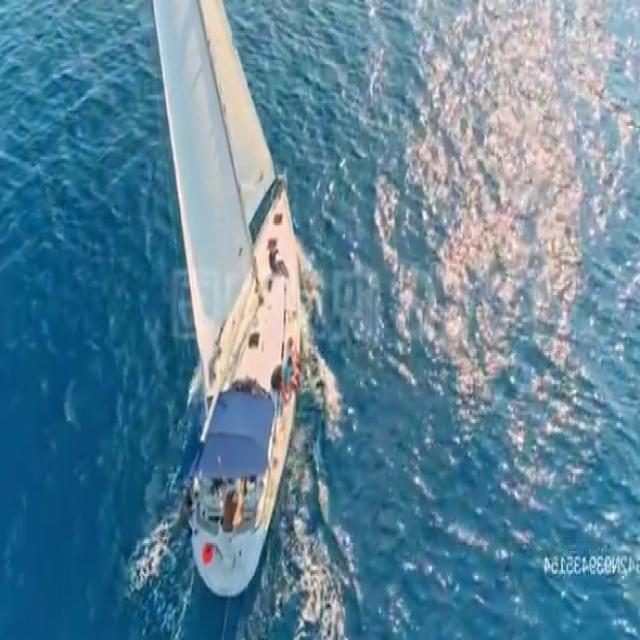sailboat: (135, 0, 321, 601)
